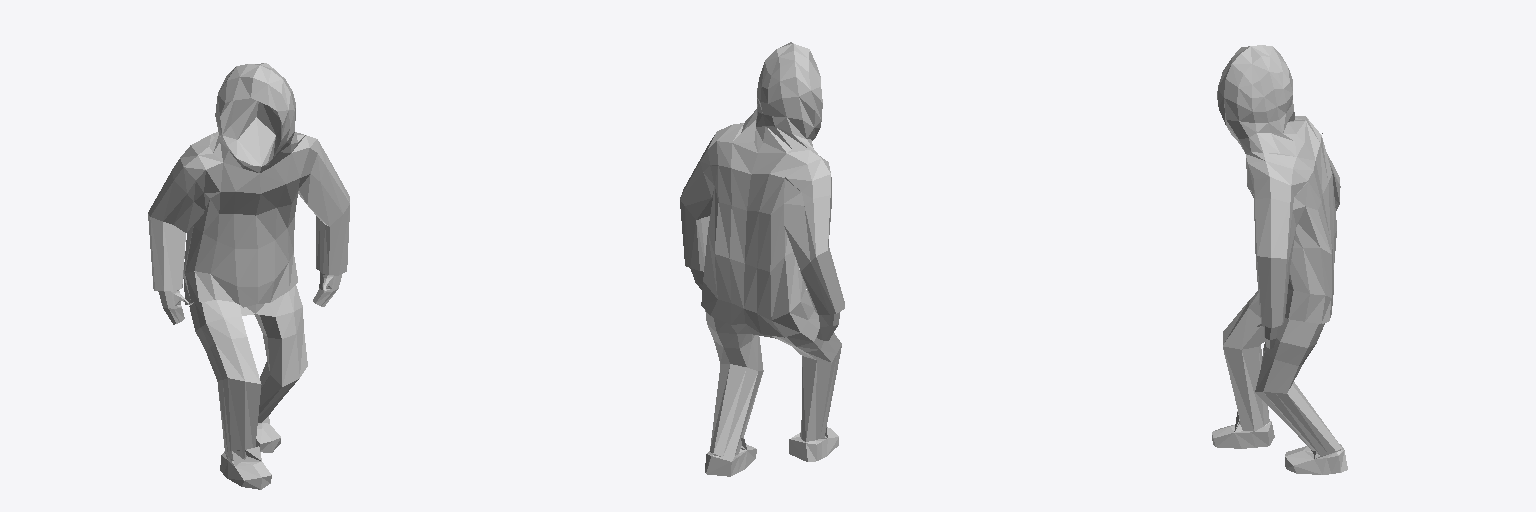
The model's file is Shadowmanv_000023.obj.
3 views of the same model, side by side, from view 1: azimuth 30°, elevation 25°; view 2: azimuth 150°, elevation 25°; view 3: azimuth 270°, elevation 25° (orthographic).
Visible parts, largest first — view 1: Cube.000; view 2: Cube.000; view 3: Cube.000.
Part boxes in pixels (left/top/right/bottom): Cube.000: left=148, top=63, right=349, bottom=489; Cube.000: left=680, top=42, right=844, bottom=476; Cube.000: left=1212, top=45, right=1347, bottom=474.
Size of the model in its own units: 5.07 by 11.12 by 3.36.